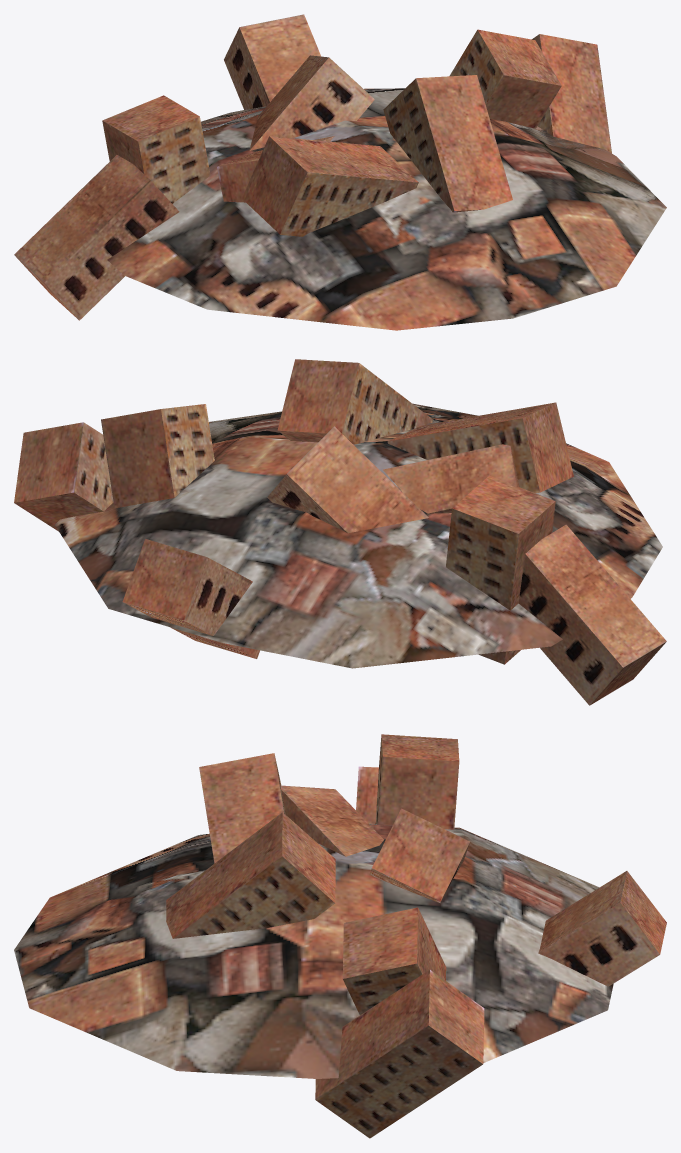
Rendered from Debris2_3_LOD2.fbx.
3 renders of one model, top to bottom at view 1: azimuth 30°, elevation 25°; view 2: azimuth 150°, elevation 25°; view 3: azimuth 270°, elevation 25°, orthographic. The views are drawn at different scales.
Visible parts, largest first — view 1: polySurface312; view 2: polySurface312; view 3: polySurface312.
Boxes of the visible parts, <box> form: polySurface312: <box>14,14,666,330</box>; polySurface312: <box>14,359,666,705</box>; polySurface312: <box>14,734,666,1138</box>.
Bounding box in the file's own units: 1.66 × 0.5657 × 1.5.
